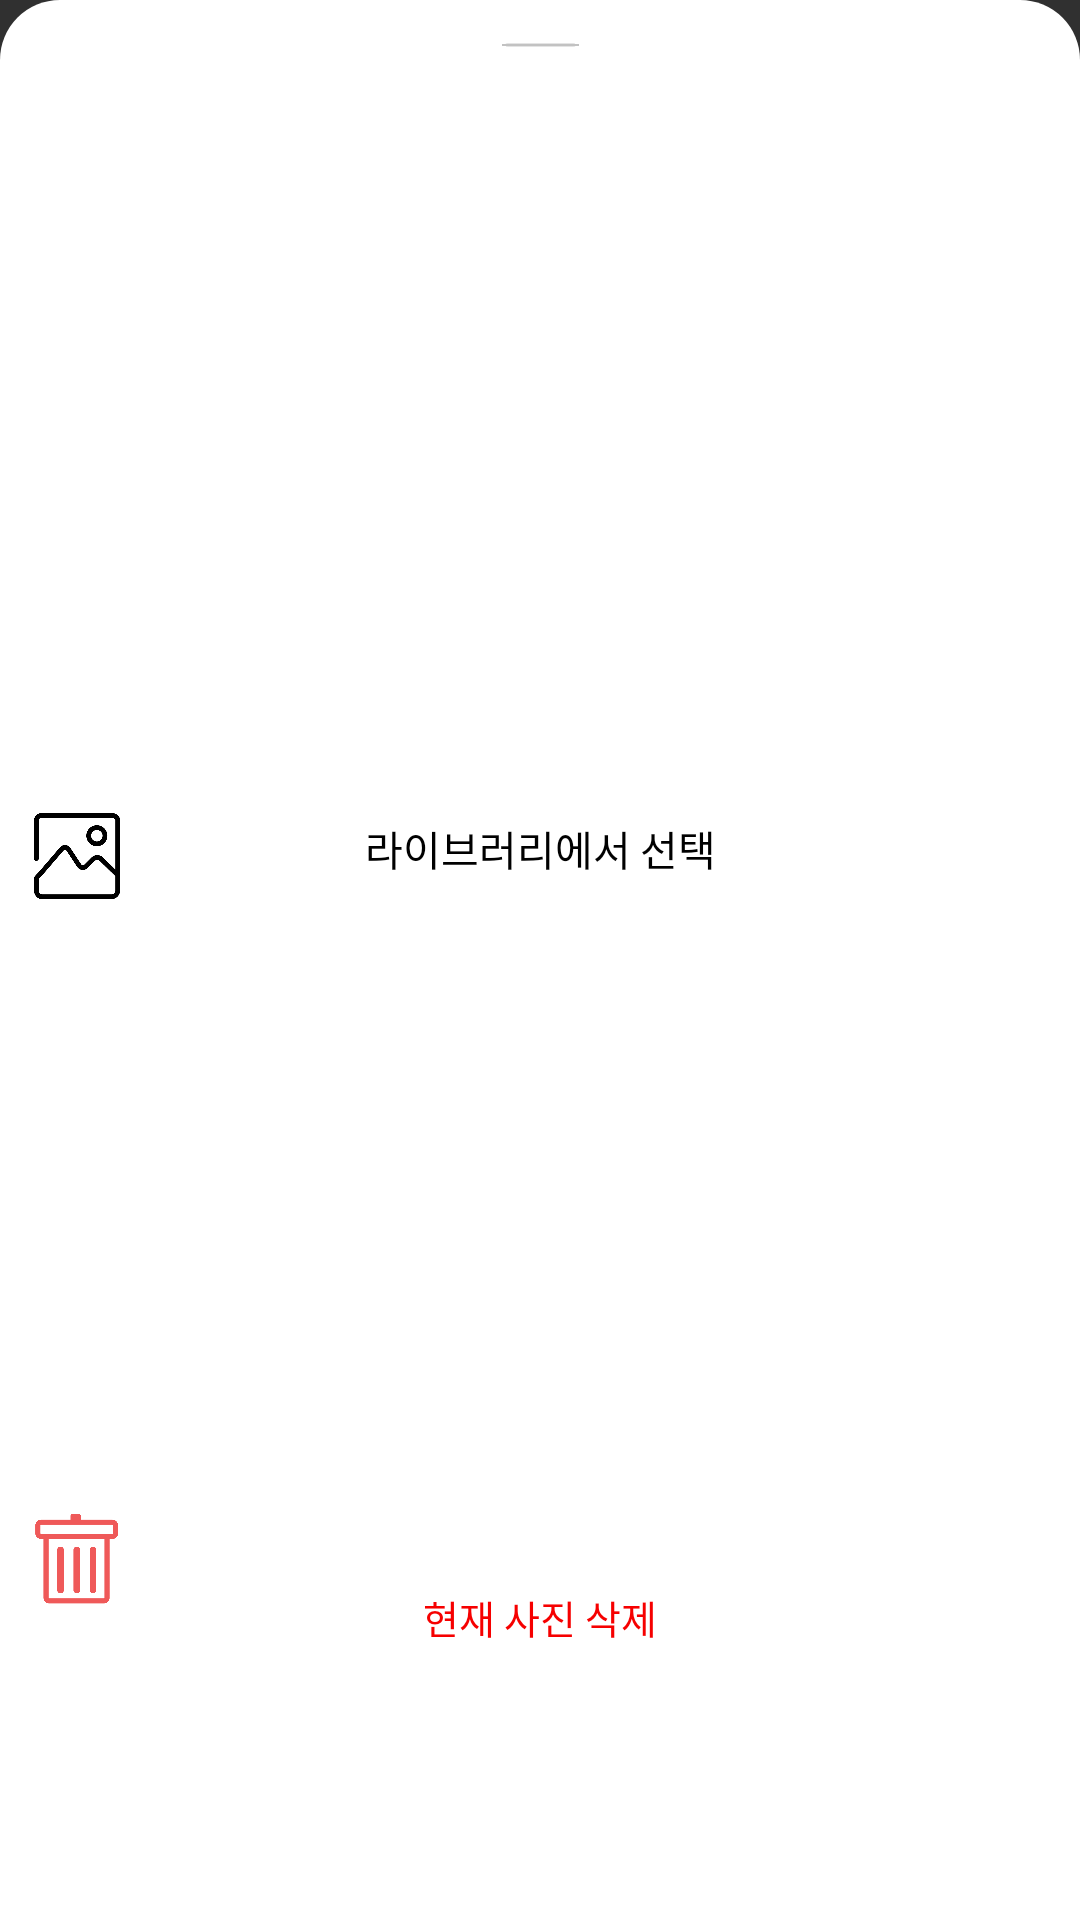

Screen size 1080 × 1920. Icon name, then its center in pixels as [x,y]:
gallery: [77,856]
trash: [76,1559]
